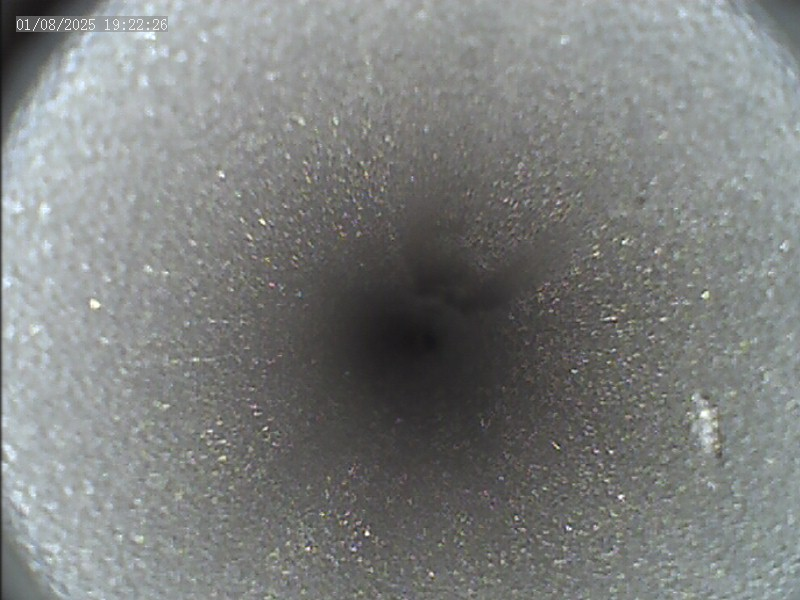defective_area: (690, 388, 723, 458)
